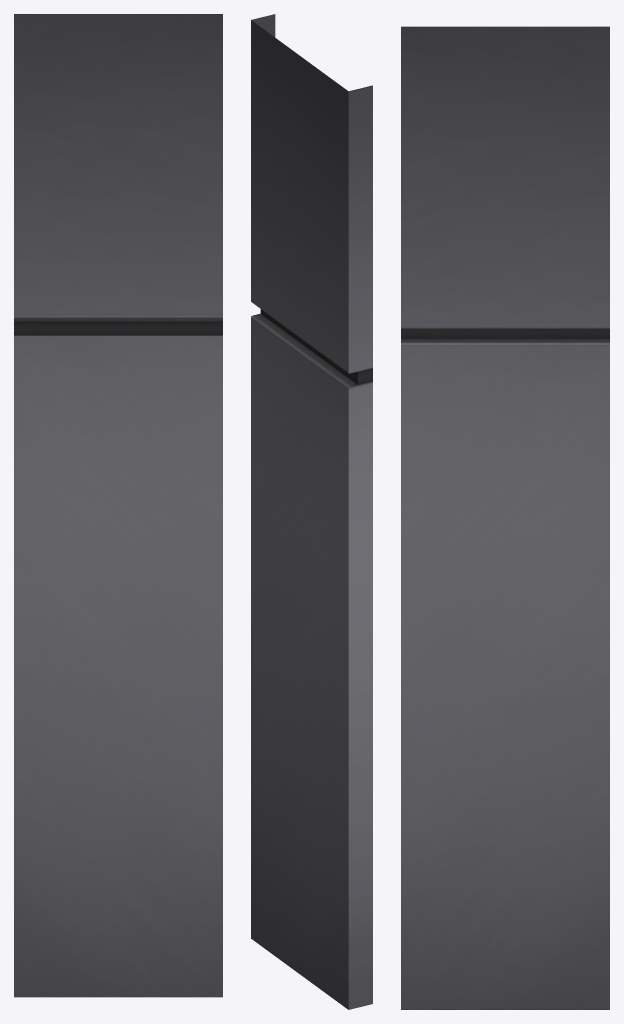
Rendered from EXT_U_HB.fbx.
The picture shows the model from 3 angles, left to right: view 1: azimuth 90°, elevation 25°; view 2: azimuth 210°, elevation 25°; view 3: azimuth 270°, elevation 25°; orthographic projection. The views are drawn at different scales.
Parts seen in each view (by area): view 1: EXT_U_HB; view 2: EXT_U_HB; view 3: EXT_U_HB.
Part boxes in pixels (box(x1,y1,x2,y2)): EXT_U_HB: box(14, 14, 222, 997); EXT_U_HB: box(251, 14, 372, 1009); EXT_U_HB: box(401, 26, 609, 1009).
Bounding box in the file's own units: 0.125 × 4.5 × 0.866.
